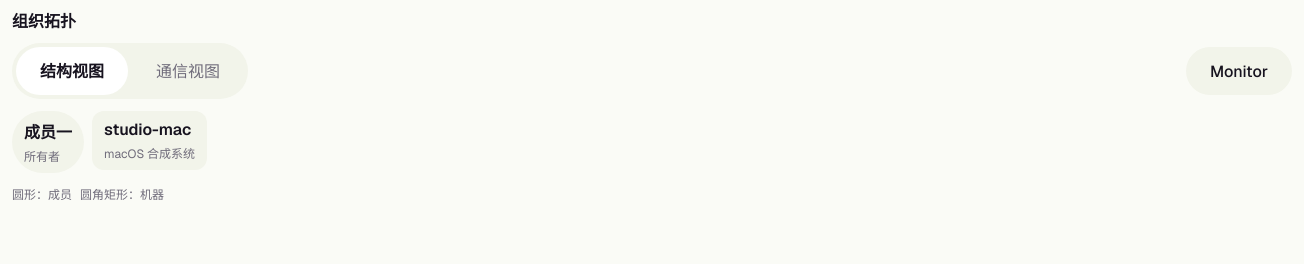
Scenario: J7 communication and panels › keeps the selected node across view and monitor switches
The image size is (1304, 264).
Click the button "成员一 所有者": click(48, 142) [12,111,84,173]
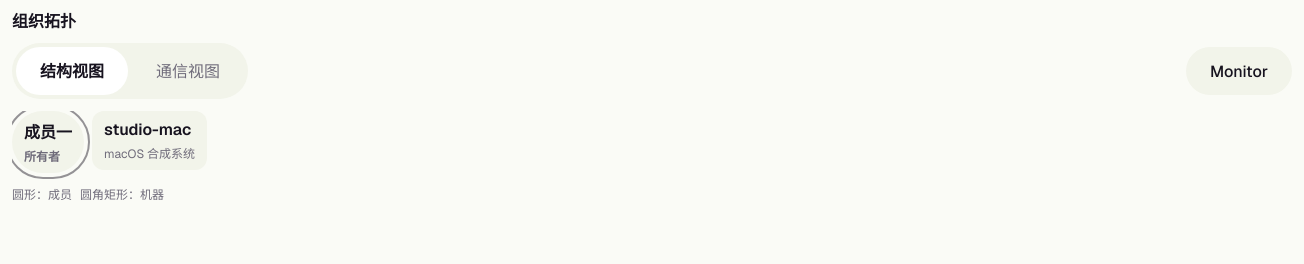
Check: the button "成员一 所有者" is pressed, box [12,111,84,173]
Click the button "通信视图": click(188, 71) [132,47,244,95]
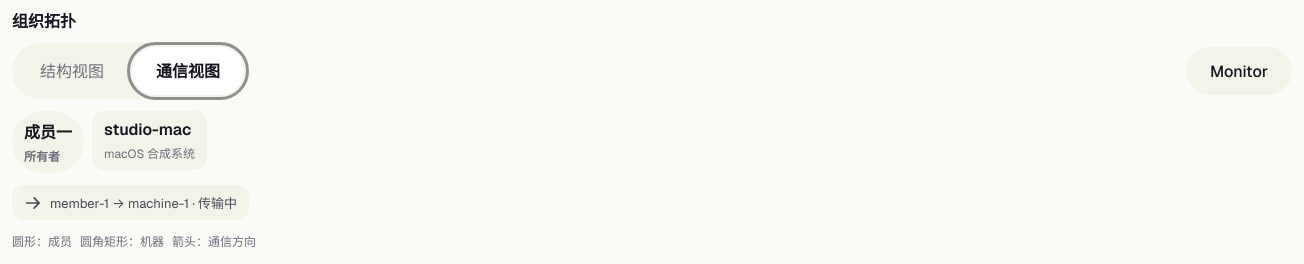
Click the button "结构视图": click(72, 71) [16,47,128,95]
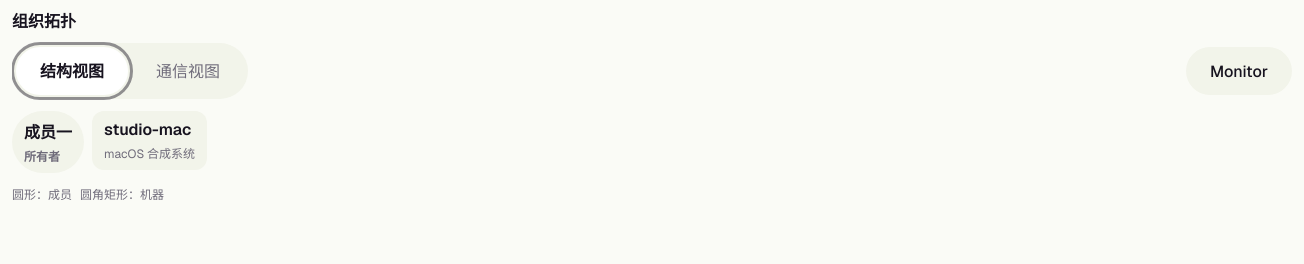
Check: the button "成员一 所有者" is pressed, box [12,111,84,173]
